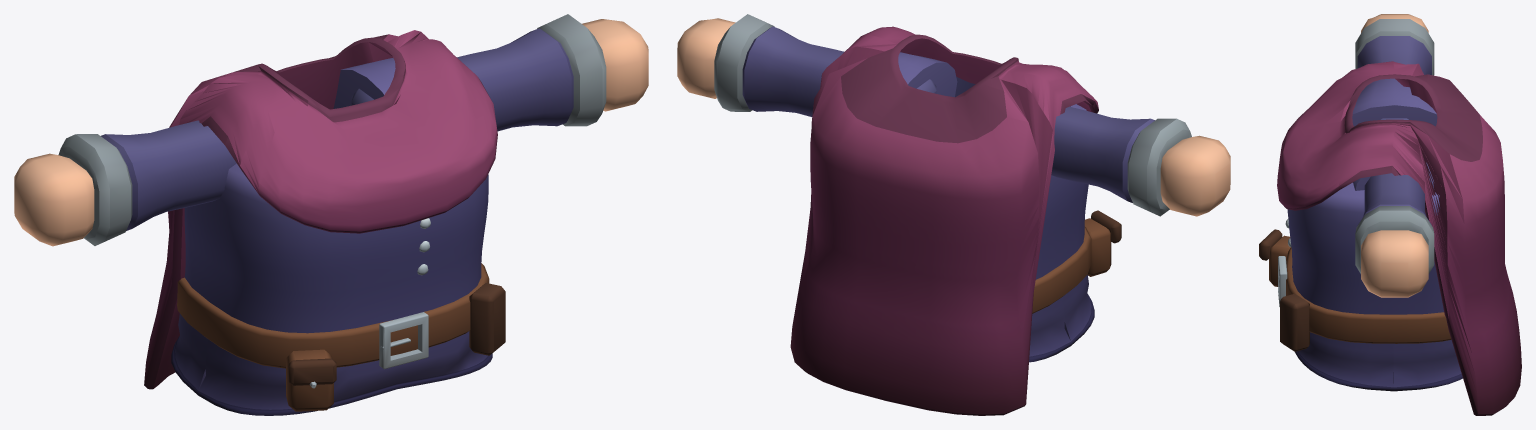
Rendered from mage_coat.glb.
3 views of the same model, side by side, from view 1: azimuth 30°, elevation 25°; view 2: azimuth 150°, elevation 25°; view 3: azimuth 270°, elevation 25° (orthographic). The views are drawn at different scales.
Parts seen in each view (by area): view 1: Item; view 2: Item; view 3: Item.
Boxes of the visible parts, x1,y1,x2,y2 form: Item: (14,14,648,415); Item: (677,14,1230,415); Item: (1259,14,1521,415).
Size of the model in its own units: 1.94 by 1.03 by 0.8995.
4 materials, 4 textured.
